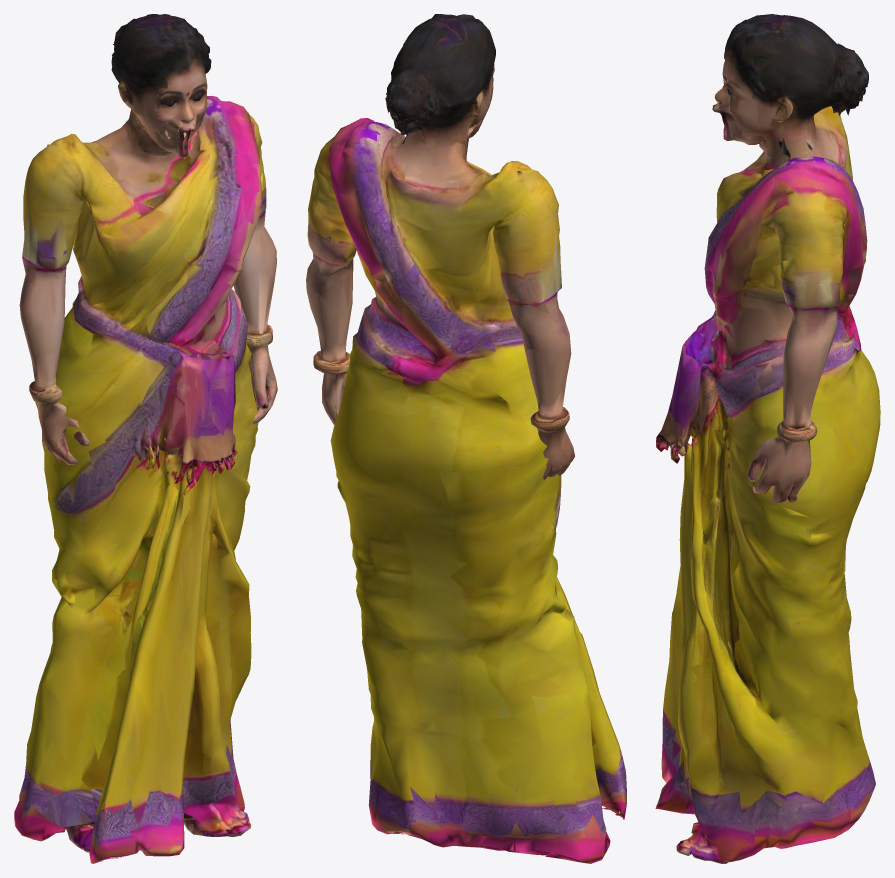
The model's file is sf_woman_saree_yellow.glb.
3 renders of one model, left to right at view 1: azimuth 30°, elevation 25°; view 2: azimuth 150°, elevation 25°; view 3: azimuth 270°, elevation 25°, orthographic. The views are drawn at different scales.
Visible parts, largest first — view 1: sf_woman_saree_yellow; view 2: sf_woman_saree_yellow; view 3: sf_woman_saree_yellow.
Boxes of the visible parts, x1,y1,x2,y2 form: sf_woman_saree_yellow: (14,14,277,863); sf_woman_saree_yellow: (306,14,626,863); sf_woman_saree_yellow: (655,14,880,863).
Bounding box in the file's own units: 0.5777 × 1.61 × 0.4008.
5 materials, 5 textured.
